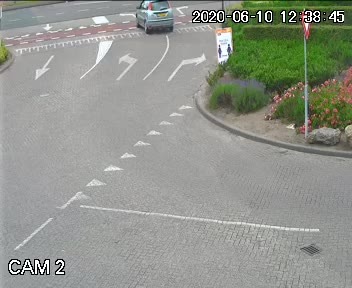car: (133, 0, 175, 31)
